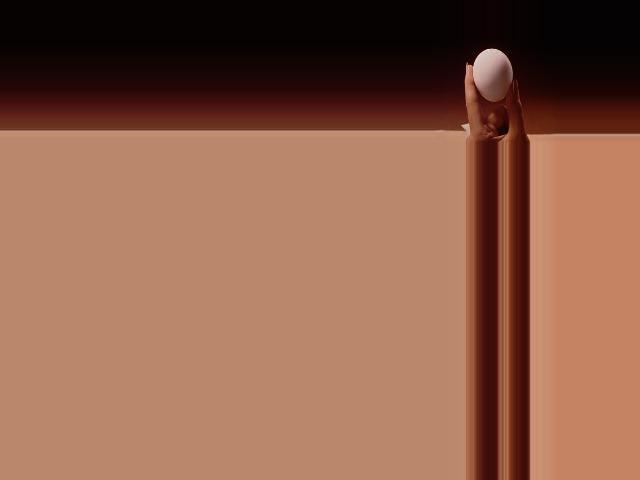egg: (473, 49, 513, 103)
